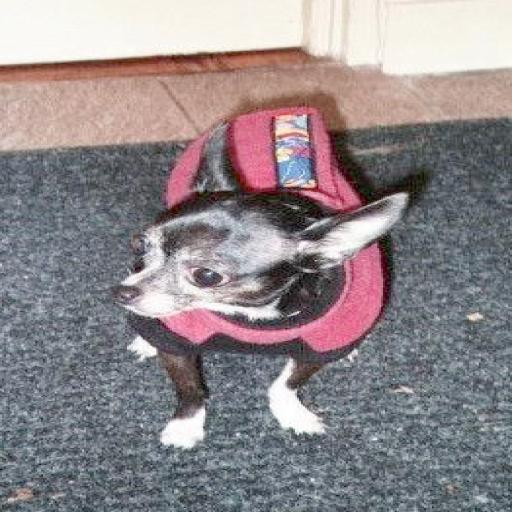dog_face: (118, 185, 408, 328)
